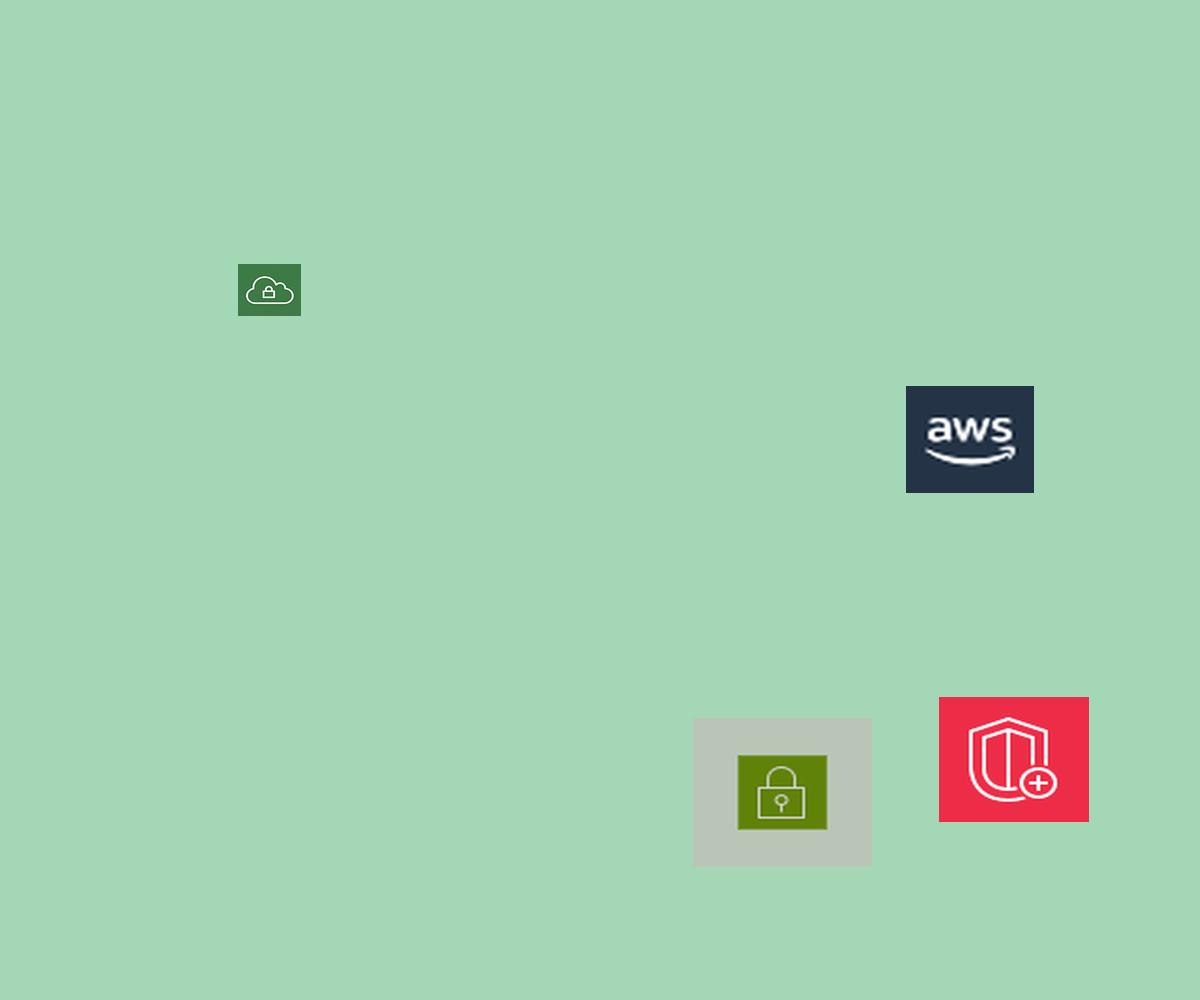AWS-Cloud-logo: (906, 386, 1034, 493)
AWS-Private_vpc: (238, 264, 301, 316)
AWS-Public-subnet: (693, 718, 872, 867)
AWS-Shield: (939, 697, 1089, 822)
